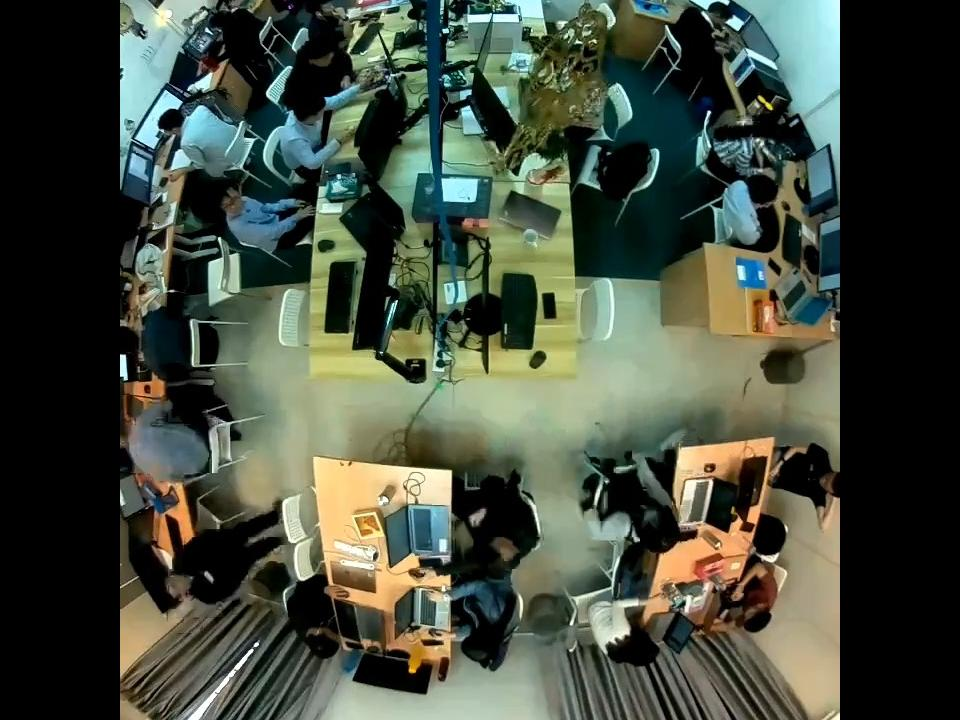name-tag: (203, 570, 217, 584)
